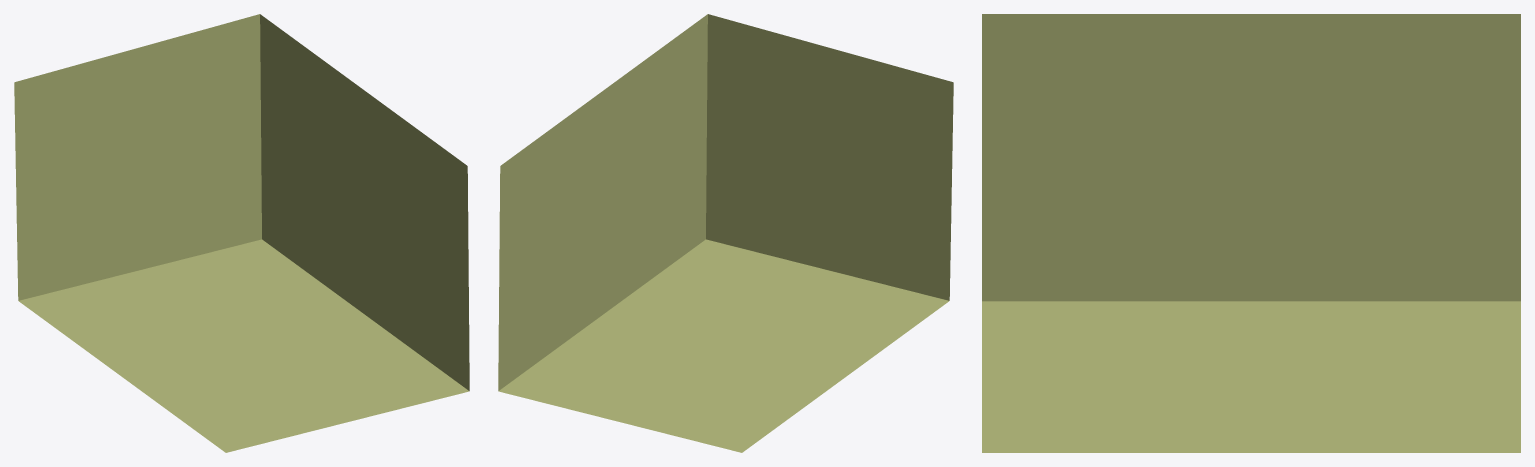
3 views of the same model, side by side, from view 1: azimuth 30°, elevation 25°; view 2: azimuth 150°, elevation 25°; view 3: azimuth 270°, elevation 25° (orthographic). The views are drawn at different scales.
Visible parts, largest first — view 1: 0_0_1_2_0_0_1_1_3_3_2_0; view 2: 0_0_1_2_0_0_1_1_3_3_2_0; view 3: 0_0_1_2_0_0_1_1_3_3_2_0.
Part boxes in pixels (box(x1,y1,x2,y2)): 0_0_1_2_0_0_1_1_3_3_2_0: box(14, 14, 469, 452); 0_0_1_2_0_0_1_1_3_3_2_0: box(498, 14, 953, 452); 0_0_1_2_0_0_1_1_3_3_2_0: box(982, 14, 1520, 452).
Bounding box in the file's own units: 6.2 × 5.45 × 9.
